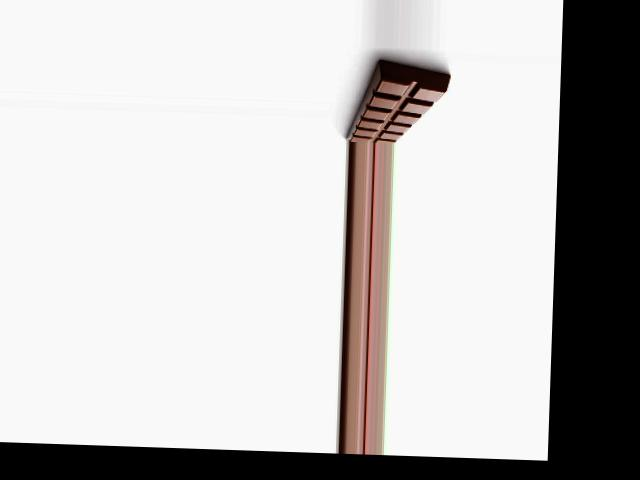chocolate: (339, 56, 451, 144)
